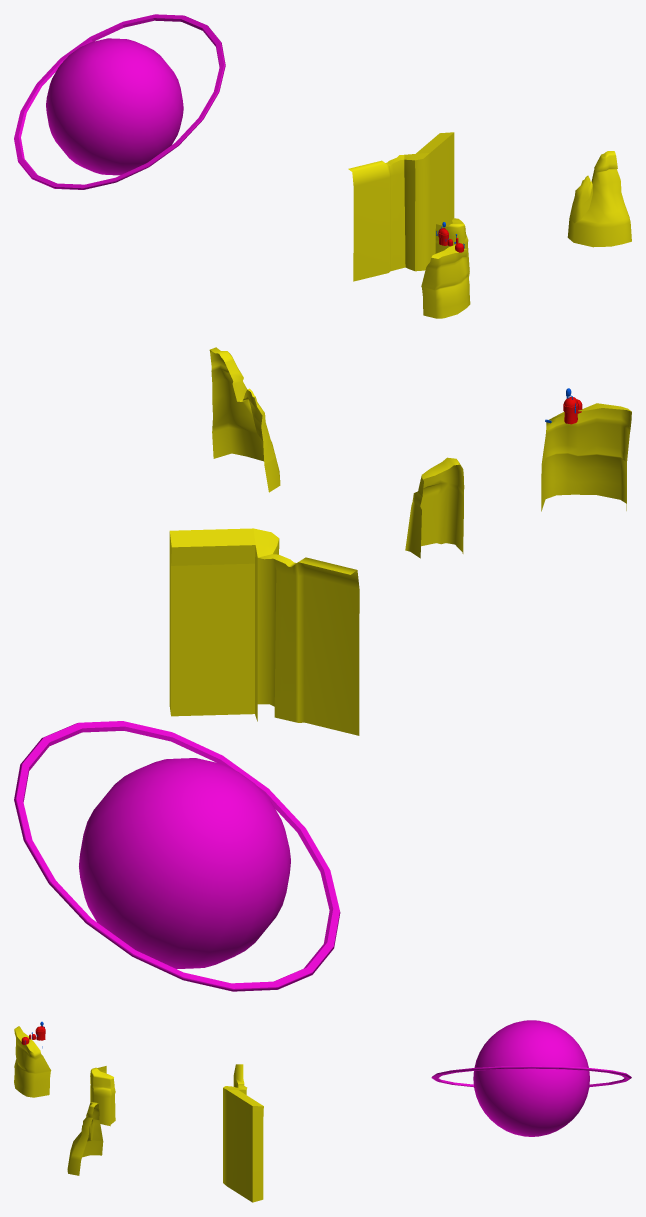
File: Background_high.fbx
3 views of the same model, one above another, from view 1: azimuth 30°, elevation 25°; view 2: azimuth 150°, elevation 25°; view 3: azimuth 270°, elevation 25° (orthographic). The views are drawn at different scales.
Parts seen in each view (by area): view 1: Planet_high, FarMtnRidge_high, RMtnBack_high, LMtnMid_high, BackLMnt_high; view 2: Planet_high, FarMtnRidge_high, LMtnMid_high, RMtnBack_high, BackLMnt_high; view 3: Planet_high, FarMtnRidge_high, LMtnMid_high, RMtnBack_high, BackLMnt_high.
Boxes of the visible parts, box(x1,y1,x2,y2) form: Planet_high: box(14, 14, 225, 189); FarMtnRidge_high: box(348, 132, 454, 281); RMtnBack_high: box(567, 151, 631, 247); LMtnMid_high: box(421, 245, 470, 318); BackLMnt_high: box(435, 218, 469, 277); Planet_high: box(14, 721, 340, 991); FarMtnRidge_high: box(169, 528, 359, 735); LMtnMid_high: box(541, 403, 631, 511); RMtnBack_high: box(209, 347, 280, 492); BackLMnt_high: box(405, 457, 464, 558); Planet_high: box(431, 1020, 631, 1136); FarMtnRidge_high: box(223, 1064, 263, 1202); LMtnMid_high: box(14, 1026, 51, 1097); RMtnBack_high: box(67, 1102, 103, 1175); BackLMnt_high: box(90, 1066, 115, 1126).
Size of the model in its own units: 848 by 364 by 1618.
